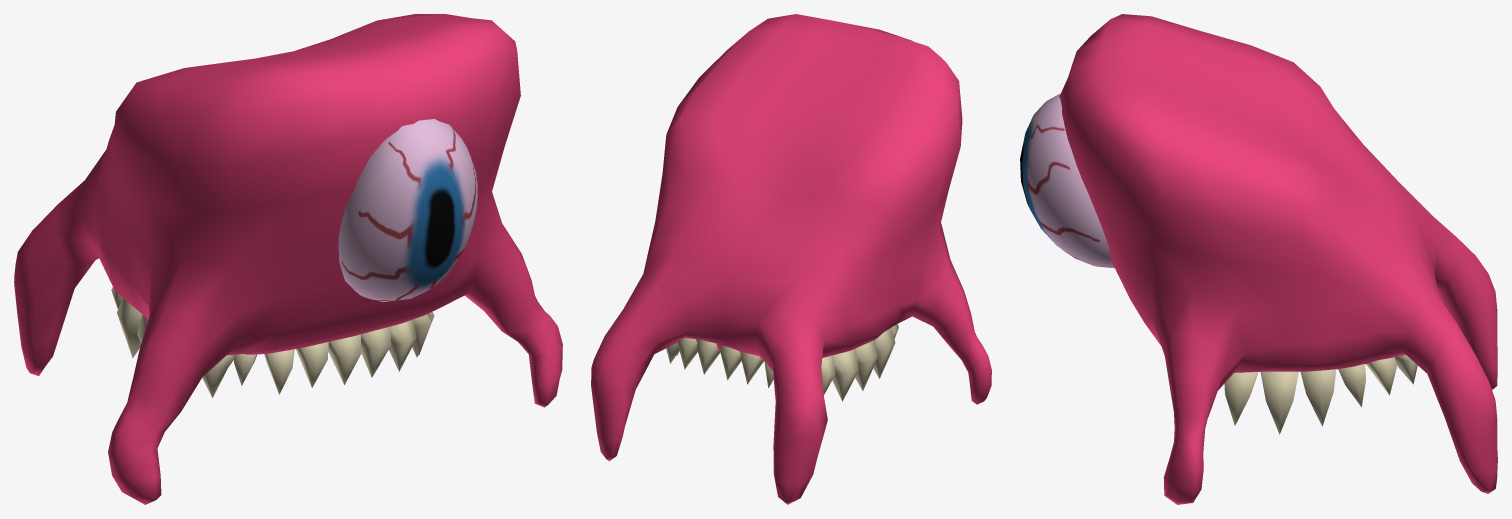
File: parasite3.fbx
The picture shows the model from 3 angles, left to right: view 1: azimuth 30°, elevation 25°; view 2: azimuth 150°, elevation 25°; view 3: azimuth 270°, elevation 25°; orthographic projection. The views are drawn at different scales.
Visible parts, largest first — view 1: blob, eye, teeth; view 2: blob, teeth; view 3: blob, eye, teeth.
Boxes of the visible parts, bbox=[...] form: blob: bbox=[14, 14, 562, 504]; eye: bbox=[338, 119, 477, 301]; teeth: bbox=[111, 287, 434, 397]; blob: bbox=[591, 14, 991, 504]; teeth: bbox=[666, 324, 898, 401]; blob: bbox=[1059, 14, 1497, 504]; eye: bbox=[1020, 93, 1114, 268]; teeth: bbox=[1224, 355, 1417, 434].
Size of the model in its own units: 196 by 175 by 180.
